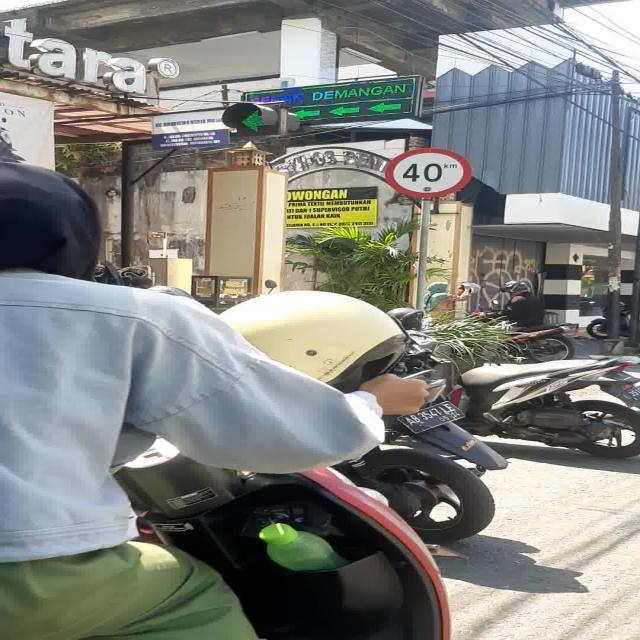Kecepatan Maks. 40 km: (385, 148, 471, 198)
